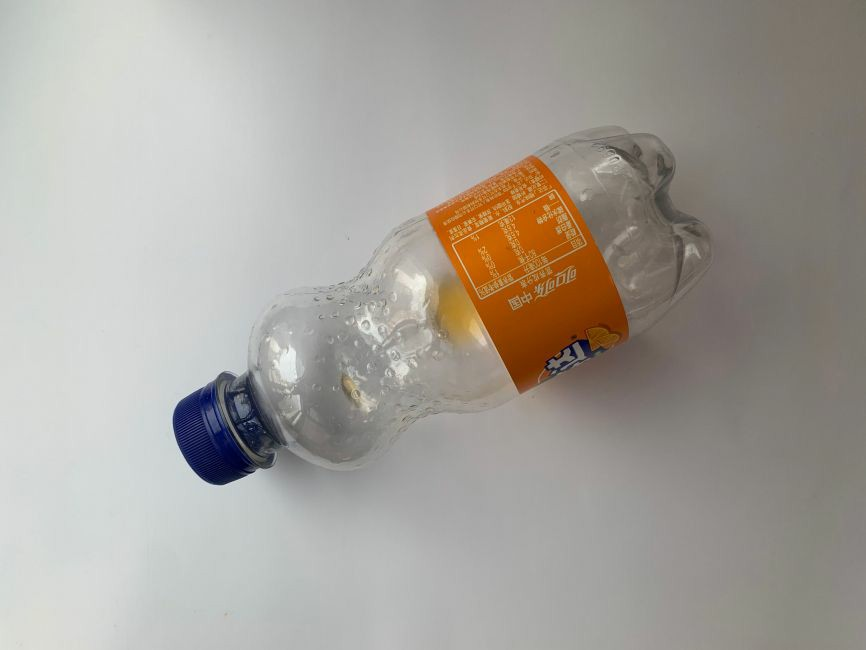bottle: (163, 120, 712, 495)
